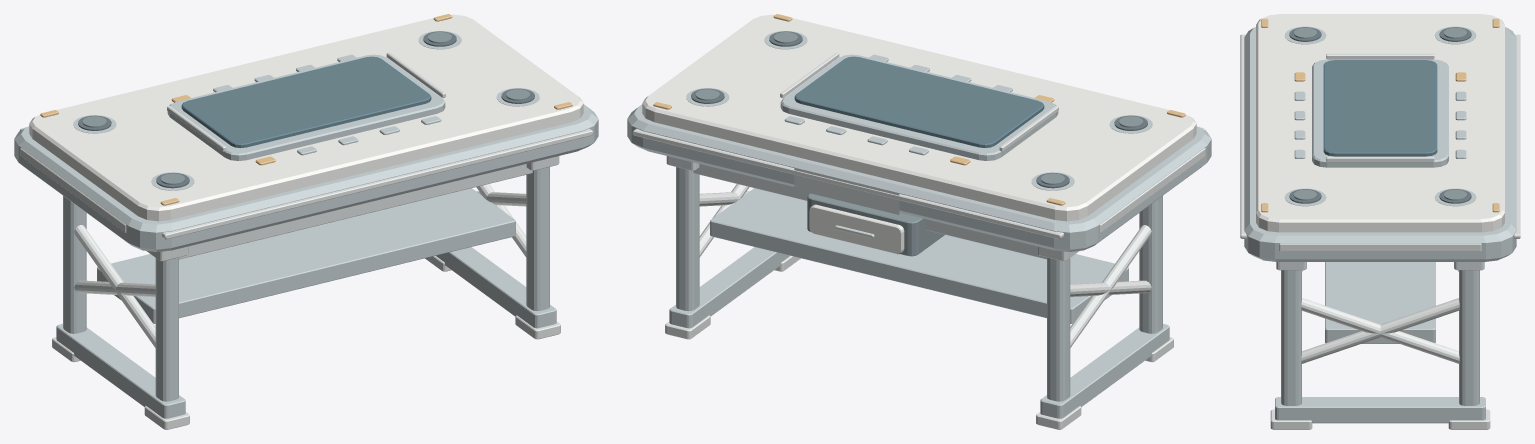
Rendered from common_table.glb.
3 renders of one model, left to right at view 1: azimuth 30°, elevation 25°; view 2: azimuth 150°, elevation 25°; view 3: azimuth 270°, elevation 25°, orthographic. The views are drawn at different scales.
Parts seen in each view (by area): view 1: static_graphite__graphite, static_cream__cream, Planning_Display_00, static_satinsteel__satinsteel, static_steel__steel, Table_Planning_Console__graphite, Table_Planning_Console__blackglass, Cup_Retainers__graphite, Cup_Retainers__deep, Cup_Retainers__rubber, Table_Planning_Console__satinsteel, Table_Controls__graphite; view 2: static_graphite__graphite, static_cream__cream, Planning_Display_00, static_satinsteel__satinsteel, Table_Planning_Console__graphite, static_steel__steel, Under_Table_Storage__bone, Table_Planning_Console__blackglass, Under_Table_Storage__deep, ARES / COMMON_01, Cup_Retainers__graphite, Cup_Retainers__deep (+3 smaller); view 3: static_cream__cream, static_graphite__graphite, Planning_Display_00, static_satinsteel__satinsteel, Table_Planning_Console__graphite, Table_Planning_Console__blackglass, Table_Planning_Console__satinsteel, Cup_Retainers__graphite, Cup_Retainers__deep, Table_Controls__graphite, Cup_Retainers__rubber, static_steel__steel (+1 smaller).
Boxes of the visible parts, x1,y1,x2,y2 form: static_graphite__graphite: (14, 104, 598, 418); static_cream__cream: (29, 14, 583, 221); Planning_Display_00: (186, 57, 426, 142); static_satinsteel__satinsteel: (19, 127, 593, 429); static_steel__steel: (147, 156, 559, 261); Table_Planning_Console__graphite: (167, 54, 445, 160); Table_Planning_Console__blackglass: (181, 56, 431, 147); Cup_Retainers__graphite: (73, 31, 539, 190); Cup_Retainers__deep: (82, 32, 530, 184); Cup_Retainers__rubber: (78, 31, 534, 188); Table_Planning_Console__satinsteel: (167, 52, 445, 151); Table_Controls__graphite: (213, 54, 441, 155); static_graphite__graphite: (627, 104, 1211, 418); static_cream__cream: (642, 14, 1196, 221); Planning_Display_00: (799, 57, 1039, 142); static_satinsteel__satinsteel: (632, 127, 1206, 429); Table_Planning_Console__graphite: (780, 54, 1058, 160); static_steel__steel: (666, 156, 1078, 261); Under_Table_Storage__bone: (809, 204, 904, 254); Table_Planning_Console__blackglass: (794, 56, 1044, 147); Under_Table_Storage__deep: (807, 193, 944, 256); ARES / COMMON_01: (794, 168, 899, 214); Cup_Retainers__graphite: (686, 31, 1152, 190); Cup_Retainers__deep: (695, 32, 1143, 184); static_cream__cream: (1256, 14, 1504, 232); static_graphite__graphite: (1244, 27, 1516, 423); Planning_Display_00: (1328, 61, 1432, 149); static_satinsteel__satinsteel: (1240, 34, 1520, 429); Table_Planning_Console__graphite: (1312, 59, 1448, 167); Table_Planning_Console__blackglass: (1323, 60, 1437, 156); Table_Planning_Console__satinsteel: (1326, 53, 1434, 162); Cup_Retainers__graphite: (1284, 26, 1476, 206); Cup_Retainers__deep: (1293, 27, 1467, 200); Table_Controls__graphite: (1294, 91, 1466, 158); Cup_Retainers__rubber: (1289, 27, 1471, 203); static_steel__steel: (1276, 262, 1484, 271).
Bounding box in the file's own units: 1.87 × 0.919 × 1.01.
